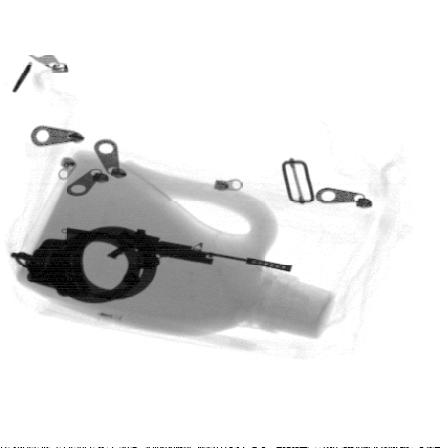Gun: (66, 224, 295, 276)
HandCuffs: (8, 225, 160, 305)
